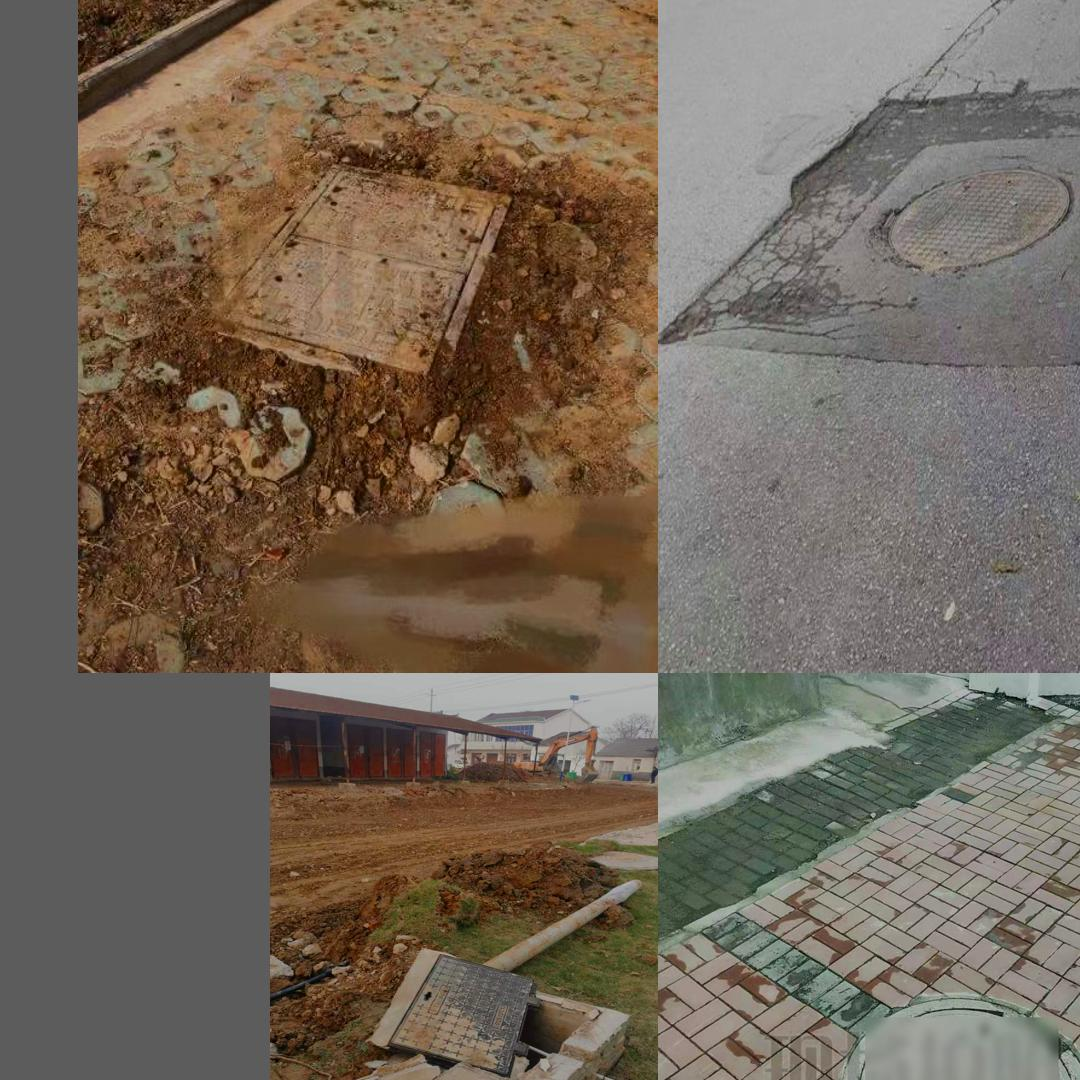circle: (184, 157, 538, 415), (746, 111, 1080, 358), (350, 946, 612, 1080), (836, 998, 1080, 1080)
